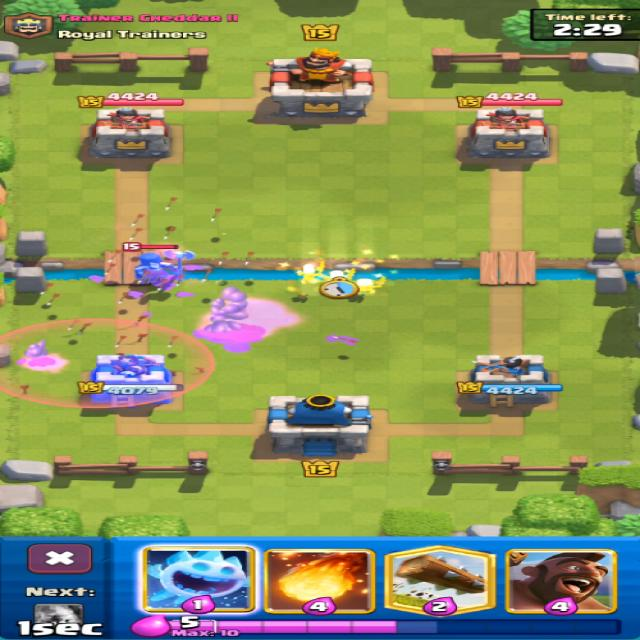Enemy-KingTower: (269, 48, 372, 117)
Enemy-NightWitch: (123, 243, 195, 290)
Enemy-PrincessTower: (462, 108, 548, 165), (88, 108, 169, 160)
Player-KingTower: (268, 393, 371, 456)
Player-PrincessTower: (90, 355, 182, 406), (465, 355, 550, 406)
Player-Skeleton: (297, 260, 324, 284), (357, 277, 385, 292), (328, 269, 353, 281)
